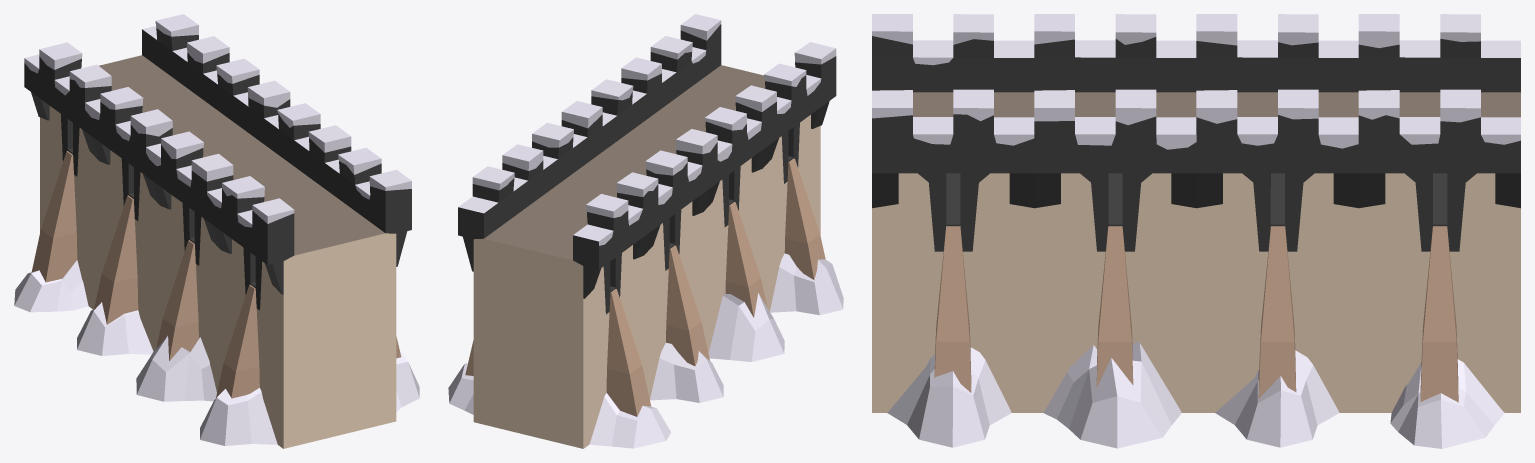
File: Wall3.obj
3 renders of one model, left to right at view 1: azimuth 30°, elevation 25°; view 2: azimuth 150°, elevation 25°; view 3: azimuth 270°, elevation 25°, orthographic. The views are drawn at different scales.
Parts seen in each view (by area): view 1: Wall3_Cube.003_Cube.010, Wall1.002_Cube.003_Cube.031; view 2: Wall3_Cube.003_Cube.010, Wall1.002_Cube.003_Cube.031; view 3: Wall3_Cube.003_Cube.010, Wall1.002_Cube.003_Cube.031.
Boxes of the visible parts, bbox=[...] form: Wall3_Cube.003_Cube.010: bbox=[24, 14, 411, 448]; Wall1.002_Cube.003_Cube.031: bbox=[14, 260, 419, 445]; Wall3_Cube.003_Cube.010: bbox=[458, 14, 836, 448]; Wall1.002_Cube.003_Cube.031: bbox=[448, 253, 843, 448]; Wall3_Cube.003_Cube.010: bbox=[872, 14, 1520, 412]; Wall1.002_Cube.003_Cube.031: bbox=[887, 341, 1504, 448].
Size of what is drawn, in the model's own units: 4.24 by 4.29 by 8.
1 material, 1 textured.
